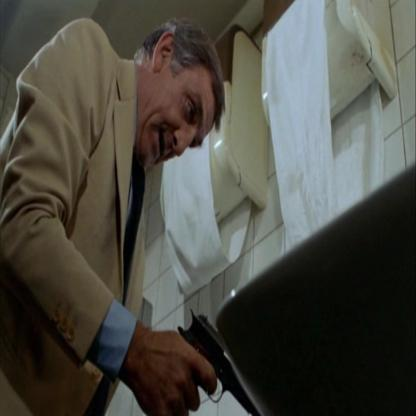gun: (173, 293, 273, 416)
